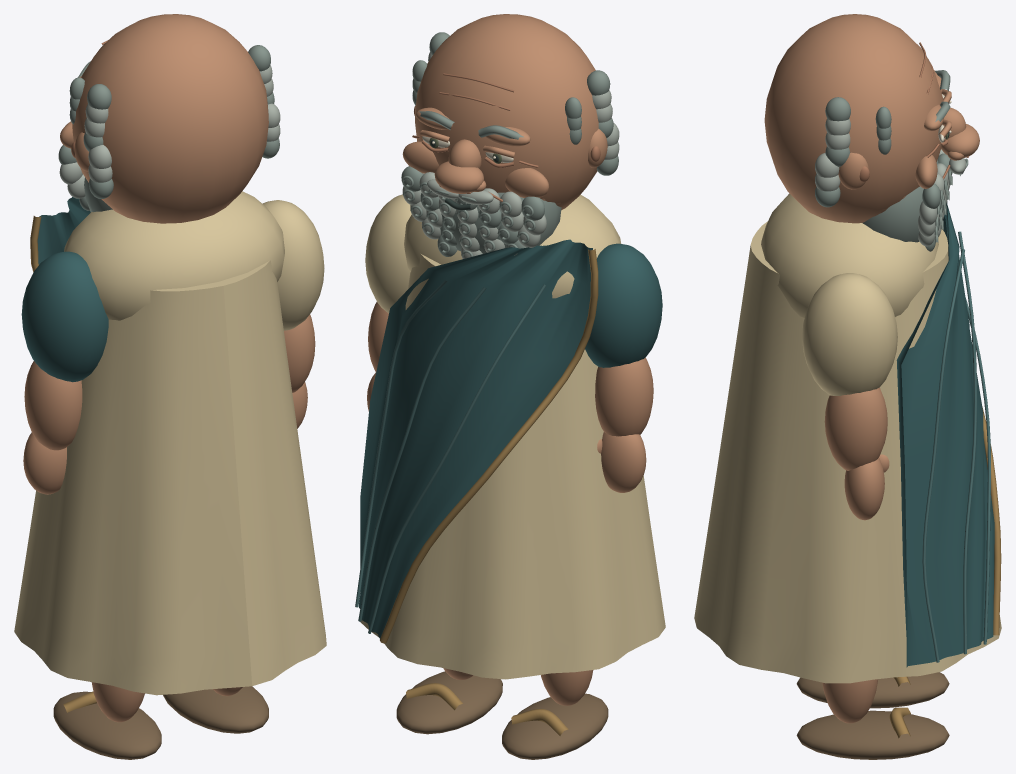
The model's file is socrates.glb.
3 views of the same model, side by side, from view 1: azimuth 30°, elevation 25°; view 2: azimuth 150°, elevation 25°; view 3: azimuth 270°, elevation 25° (orthographic).
Parts seen in each view (by area): view 1: socrates-StandingPose-0, socrates-StandingPose-4, socrates-StandingPose-1, socrates-StandingPose-11, socrates-StandingPose-9, socrates-StandingPose-10, socrates-StandingPose-2; view 2: socrates-StandingPose-0, socrates-StandingPose-1, socrates-StandingPose-4, socrates-StandingPose-11, socrates-StandingPose-9, socrates-StandingPose-10, socrates-StandingPose-2, socrates-StandingPose-3, socrates-StandingPose-5; view 3: socrates-StandingPose-0, socrates-StandingPose-4, socrates-StandingPose-1, socrates-StandingPose-11, socrates-StandingPose-9, socrates-StandingPose-3, socrates-StandingPose-10, socrates-StandingPose-2.
Part boxes in pixels (x1,y1,x2,y2): socrates-StandingPose-0: (14, 191, 326, 695); socrates-StandingPose-4: (23, 14, 315, 722); socrates-StandingPose-1: (21, 197, 108, 382); socrates-StandingPose-11: (53, 686, 268, 759); socrates-StandingPose-9: (58, 45, 279, 212); socrates-StandingPose-10: (59, 65, 280, 198); socrates-StandingPose-2: (30, 216, 96, 712); socrates-StandingPose-0: (360, 194, 665, 679); socrates-StandingPose-1: (359, 239, 662, 638); socrates-StandingPose-4: (367, 14, 653, 705); socrates-StandingPose-11: (396, 671, 608, 759); socrates-StandingPose-9: (401, 32, 618, 256); socrates-StandingPose-10: (402, 52, 619, 258); socrates-StandingPose-2: (380, 249, 598, 735); socrates-StandingPose-3: (355, 280, 545, 633); socrates-StandingPose-5: (412, 73, 600, 201); socrates-StandingPose-0: (694, 193, 1001, 683); socrates-StandingPose-4: (764, 14, 979, 723); socrates-StandingPose-1: (896, 201, 994, 667); socrates-StandingPose-11: (796, 672, 949, 759); socrates-StandingPose-9: (815, 70, 968, 251); socrates-StandingPose-3: (922, 231, 990, 662); socrates-StandingPose-10: (815, 118, 965, 246); socrates-StandingPose-2: (889, 407, 1001, 738).
Size of what is drawn, in the model's own units: 0.7812 by 1.85 by 0.7313.
